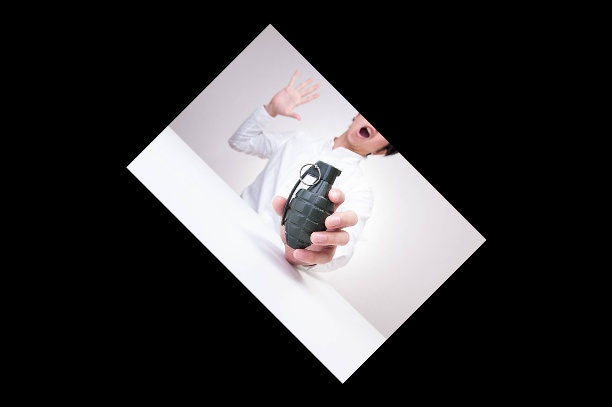e1: (282, 157, 342, 248)
